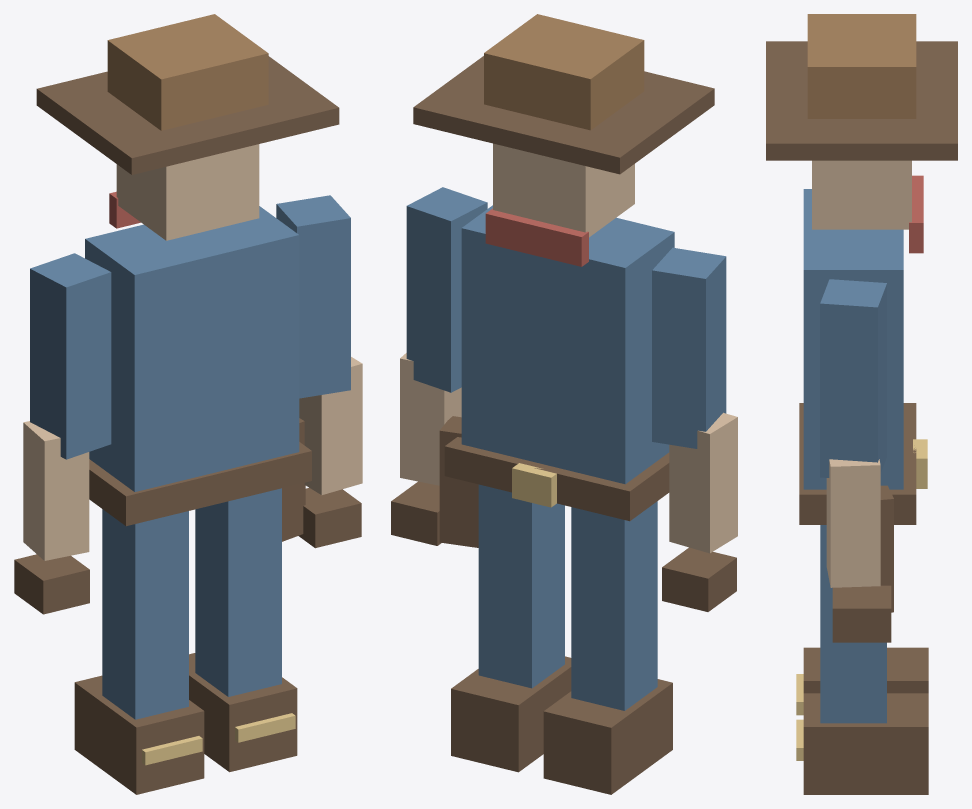
Rendered from cowboy_sheriff.glb.
The picture shows the model from 3 angles, left to right: view 1: azimuth 30°, elevation 25°; view 2: azimuth 150°, elevation 25°; view 3: azimuth 270°, elevation 25°; orthographic projection.
Visible parts, largest first — view 1: cowboy_sheriff_denim, cowboy_sheriff_leatherDark, cowboy_sheriff_skin, cowboy_sheriff_leather, cowboy_sheriff_gold; view 2: cowboy_sheriff_denim, cowboy_sheriff_leatherDark, cowboy_sheriff_skin, cowboy_sheriff_leather, cowboy_sheriff_clothRed, cowboy_sheriff_gold; view 3: cowboy_sheriff_leatherDark, cowboy_sheriff_denim, cowboy_sheriff_skin, cowboy_sheriff_leather, cowboy_sheriff_gold, cowboy_sheriff_clothRed.
Boxes of the visible parts, x1,y1,x2,y2 form: cowboy_sheriff_denim: [30, 195, 350, 719]; cowboy_sheriff_leatherDark: [14, 56, 361, 794]; cowboy_sheriff_skin: [23, 144, 362, 560]; cowboy_sheriff_leather: [107, 14, 268, 130]; cowboy_sheriff_gold: [142, 713, 295, 765]; cowboy_sheriff_denim: [406, 187, 726, 710]; cowboy_sheriff_leatherDark: [391, 56, 736, 794]; cowboy_sheriff_skin: [400, 143, 737, 553]; cowboy_sheriff_leather: [484, 14, 644, 130]; cowboy_sheriff_clothRed: [485, 208, 588, 266]; cowboy_sheriff_gold: [512, 463, 556, 507]; cowboy_sheriff_leatherDark: [766, 41, 957, 794]; cowboy_sheriff_denim: [803, 189, 903, 723]; cowboy_sheriff_skin: [812, 160, 911, 587]; cowboy_sheriff_leather: [807, 14, 916, 118]; cowboy_sheriff_gold: [796, 439, 927, 760]; cowboy_sheriff_clothRed: [909, 175, 923, 253].
Size of the model in its own units: 0.89 by 1.89 by 0.46.
